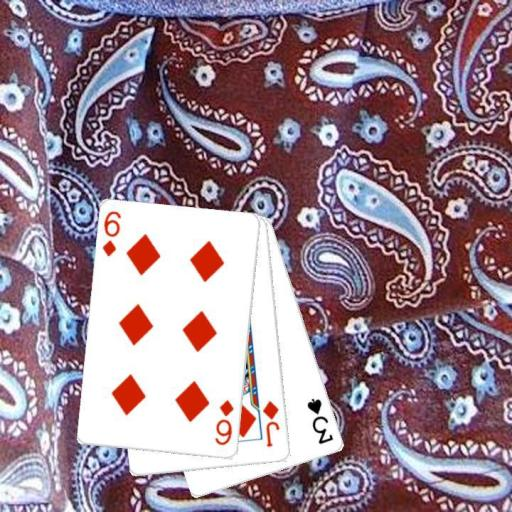3S: (304, 395, 336, 446)
6D: (212, 397, 235, 447), (100, 208, 123, 258)
JD: (260, 398, 282, 449)
